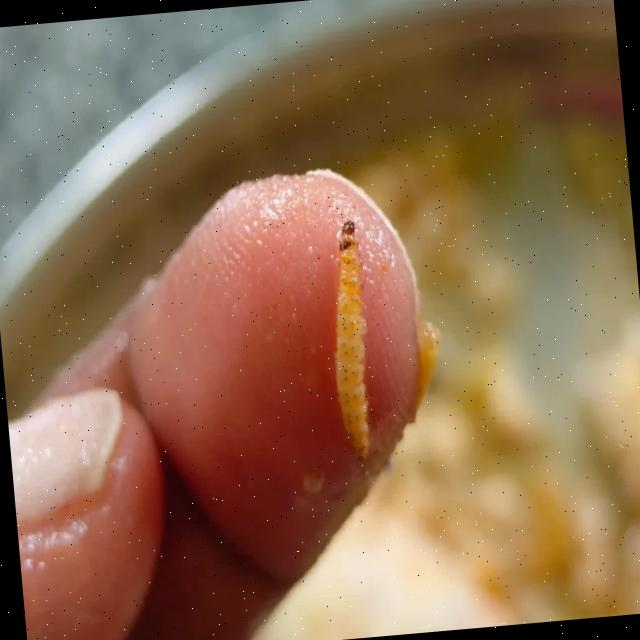worm: (315, 211, 387, 459)
